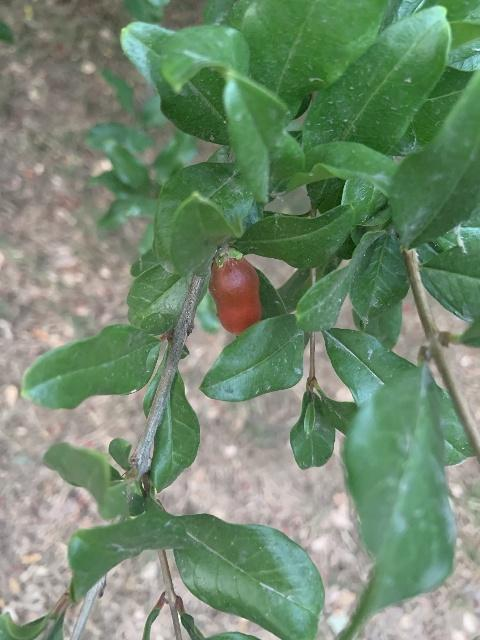bud: (209, 256, 262, 335)
